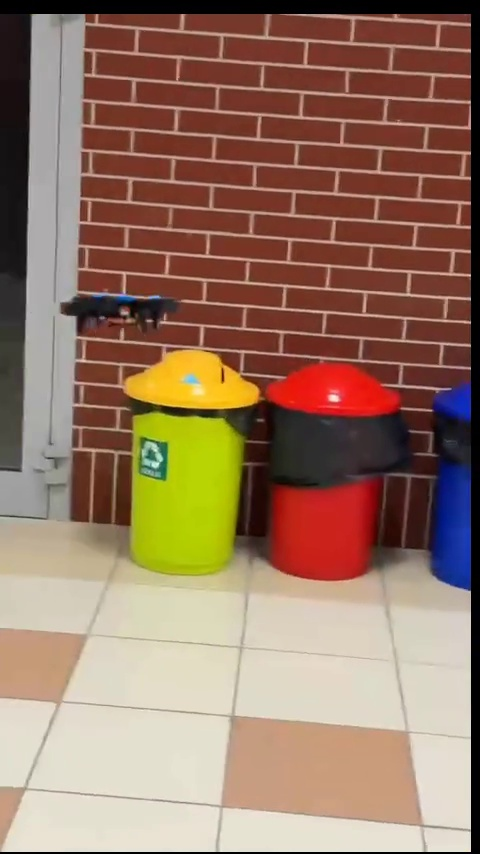drone: (56, 290, 186, 335)
